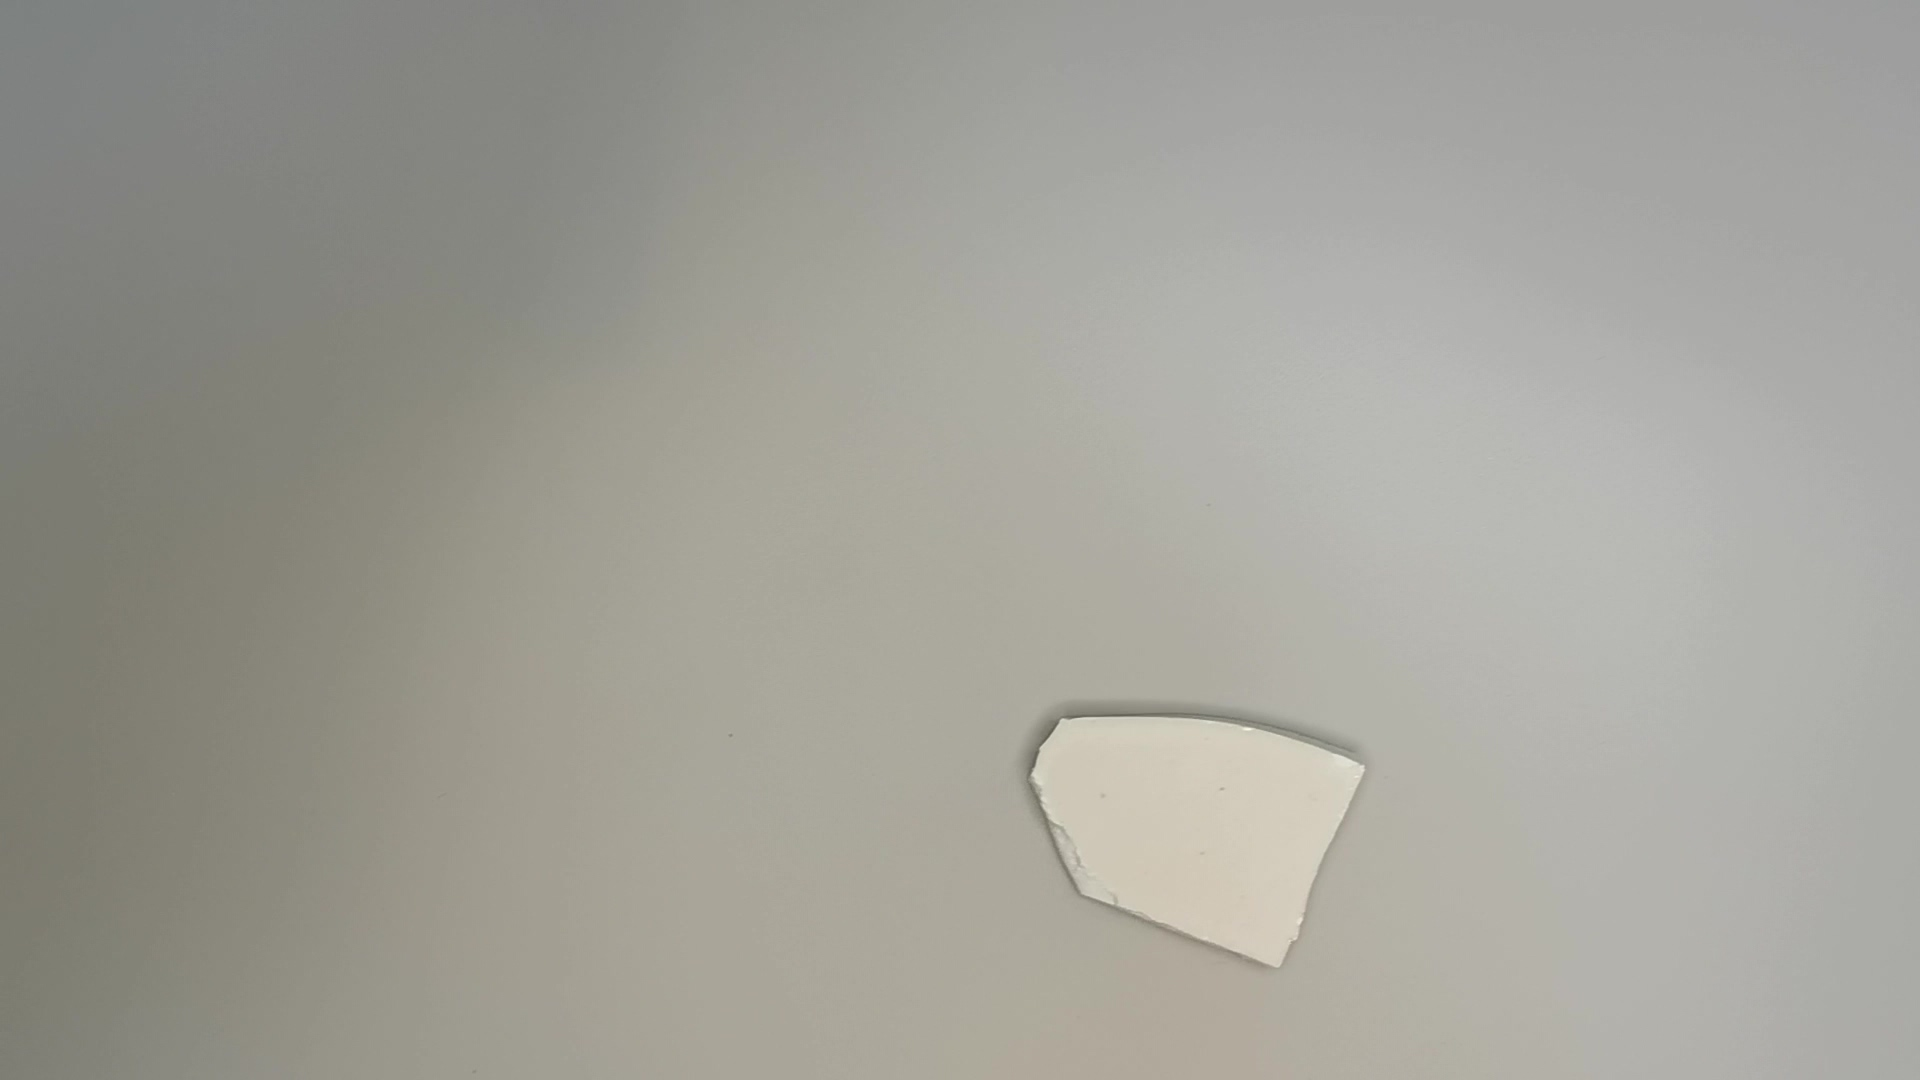ceramic: (1036, 709, 1381, 972)
